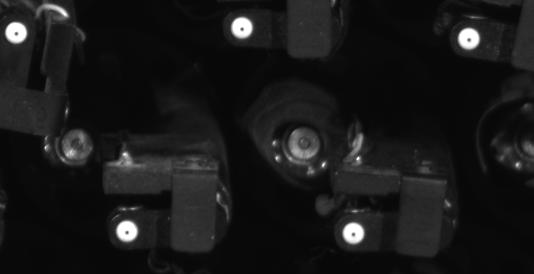fiber: (336, 216, 371, 250), (453, 23, 488, 55), (224, 12, 262, 41), (2, 15, 32, 50), (112, 217, 147, 247)
